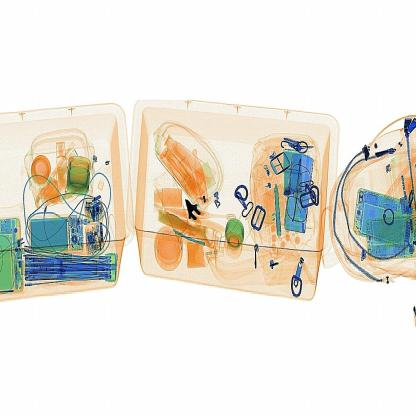gun: (181, 194, 208, 226)
